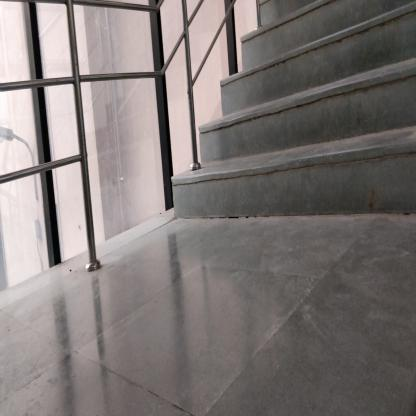stairs: (220, 84, 397, 233)
